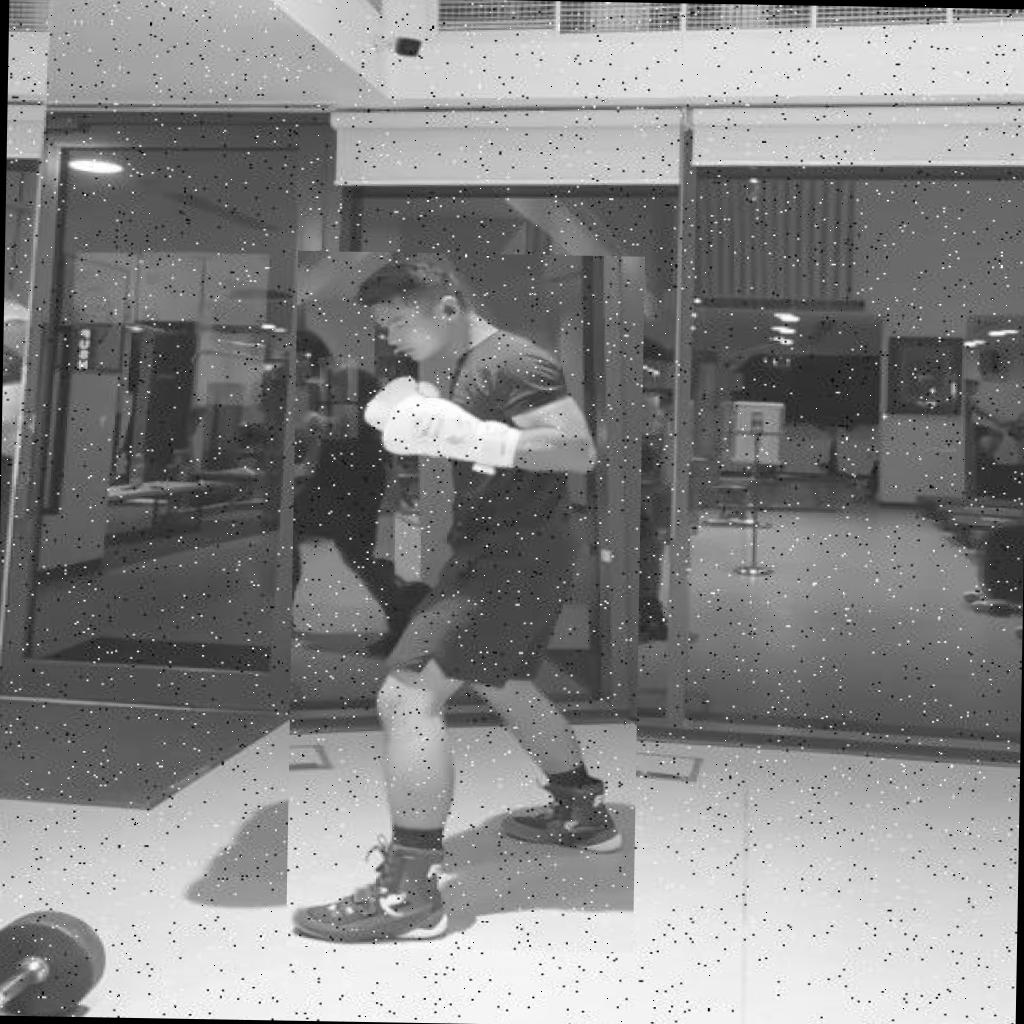no punch: (286, 250, 644, 952)
